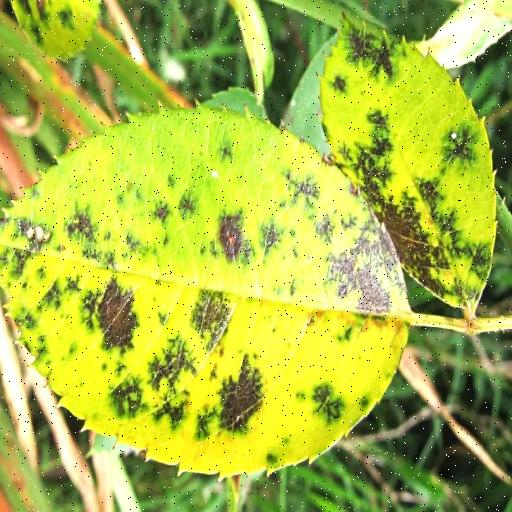downy_mildew: (0, 108, 408, 475), (320, 21, 494, 313), (415, 0, 511, 68), (11, 0, 98, 58), (227, 0, 272, 104)
